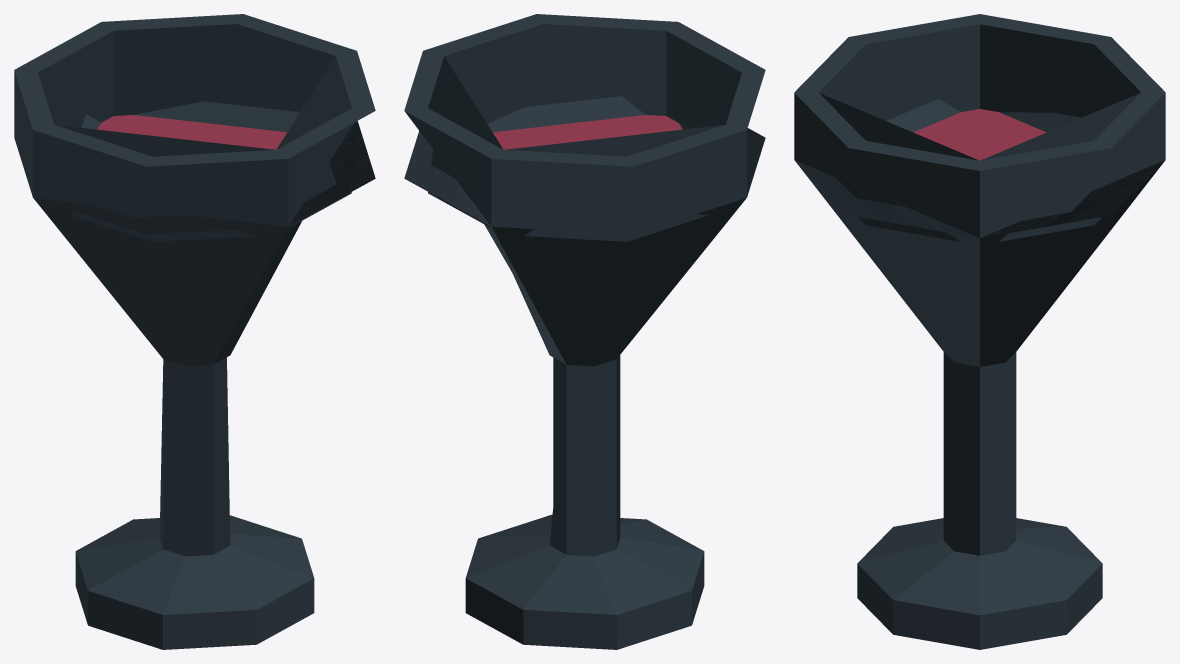
The model's file is cup2.fbx.
The picture shows the model from 3 angles, left to right: view 1: azimuth 30°, elevation 25°; view 2: azimuth 150°, elevation 25°; view 3: azimuth 270°, elevation 25°; orthographic projection.
Parts seen in each view (by area): view 1: Cylinder, Cylinder.001; view 2: Cylinder, Cylinder.001; view 3: Cylinder, Cylinder.001.
Part boxes in pixels (x1,y1,x2,y2): Cylinder: (14,14,375,649); Cylinder.001: (97,115,286,149); Cylinder: (404,14,765,649); Cylinder.001: (493,115,682,149); Cylinder: (794,14,1165,649); Cylinder.001: (913,109,1046,160).
Bounding box in the file's own units: 63.56 × 95.43 × 63.56.
